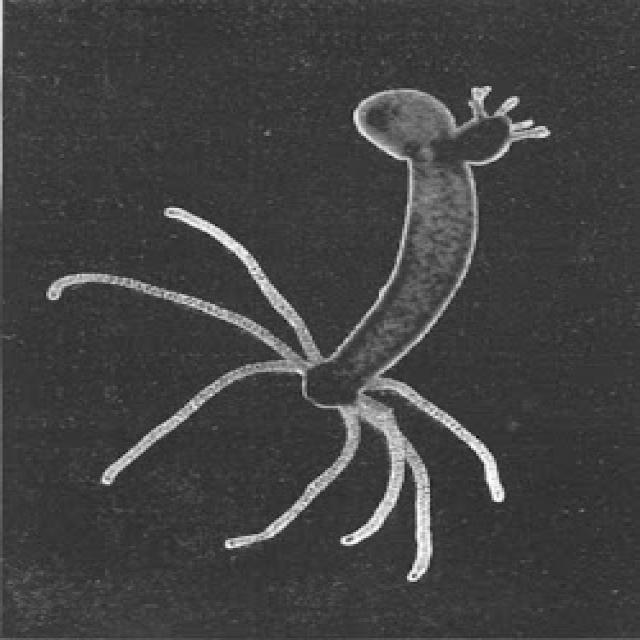Rod_bacteria: (43, 84, 550, 586)
